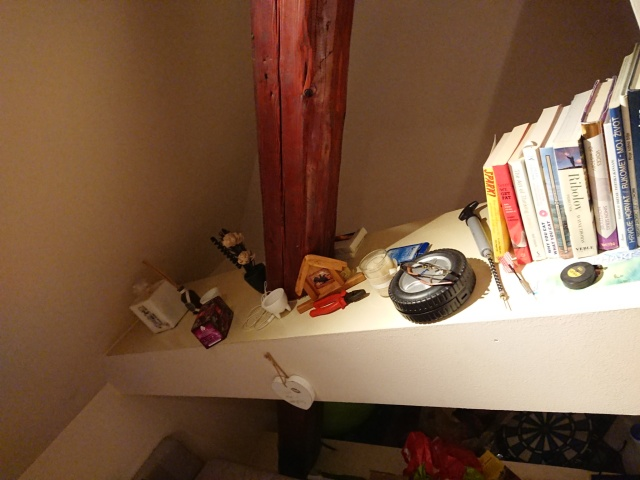Franck Black Currant Tea 60g: (188, 293, 236, 351)
